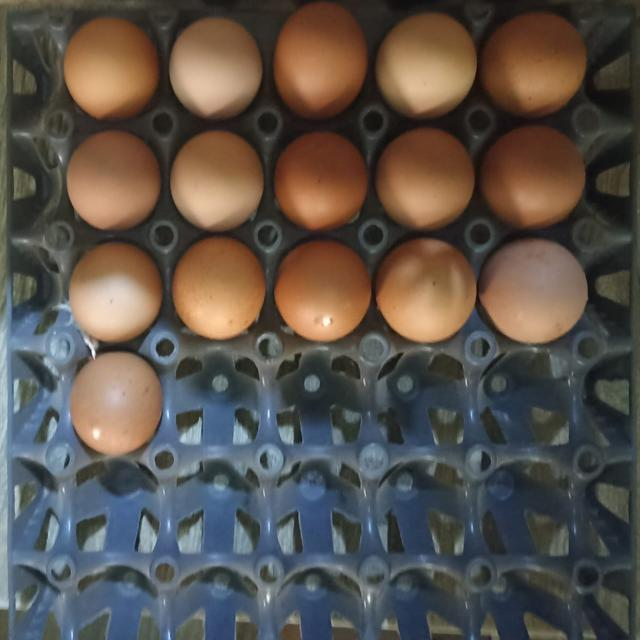Eggs: (480, 242, 598, 348), (379, 2, 479, 124), (485, 4, 589, 119), (484, 124, 588, 236), (375, 126, 477, 238), (70, 354, 168, 466), (64, 10, 160, 124), (276, 1, 369, 118), (276, 240, 376, 348), (378, 242, 478, 348), (170, 10, 262, 124), (64, 137, 164, 237), (175, 238, 265, 346), (72, 247, 168, 347), (278, 129, 370, 233), (172, 134, 268, 232)
